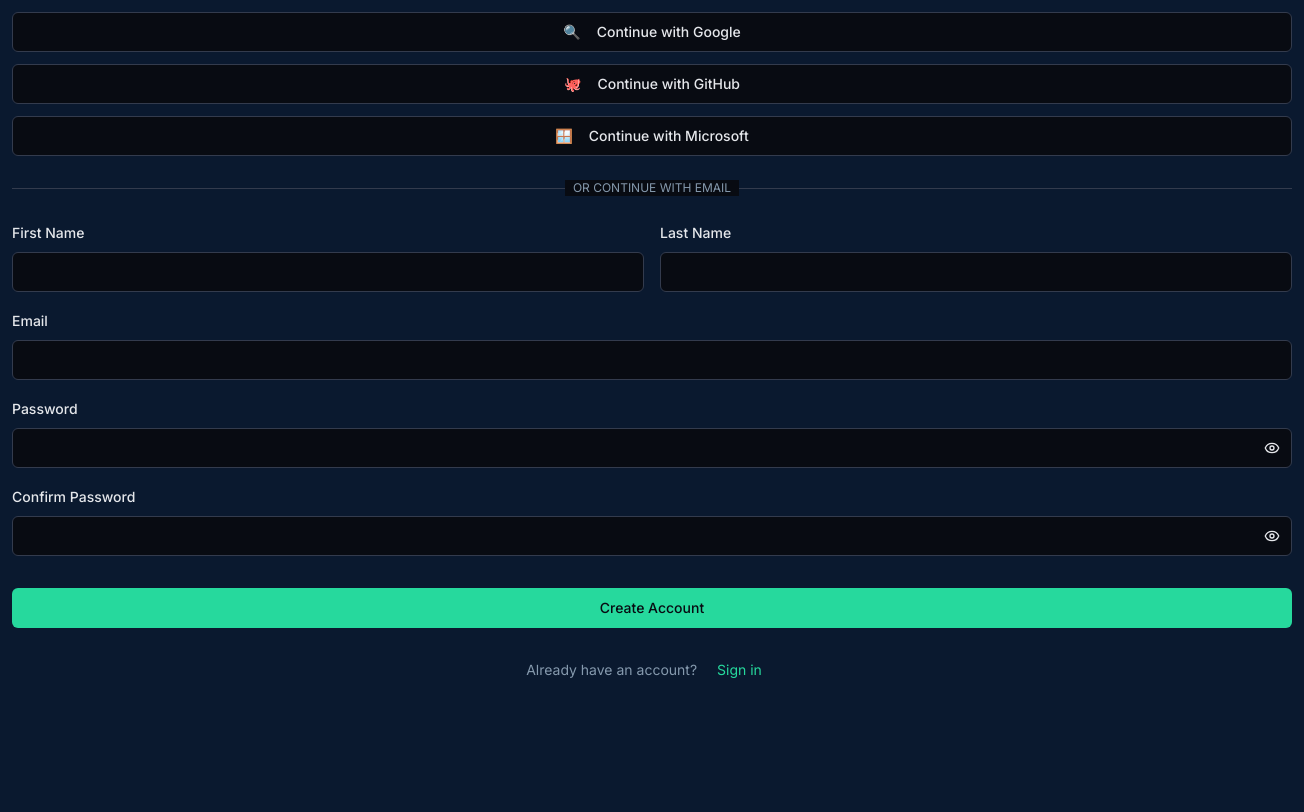
it: SignUpForm - Comprehensive Coverage › Form Validation › should validate required email
Click the field labelled "Email" at (652, 360), box [12, 340, 1292, 380]
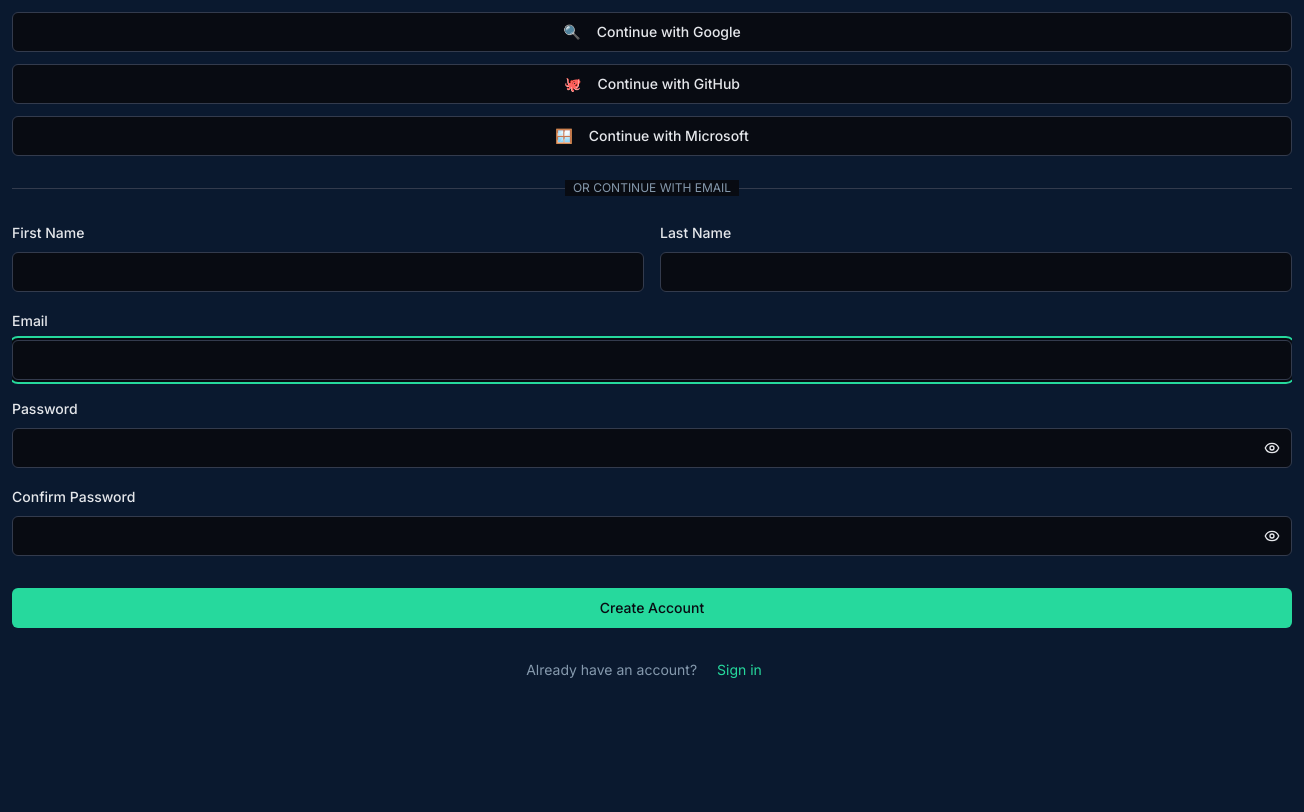
Press Tab
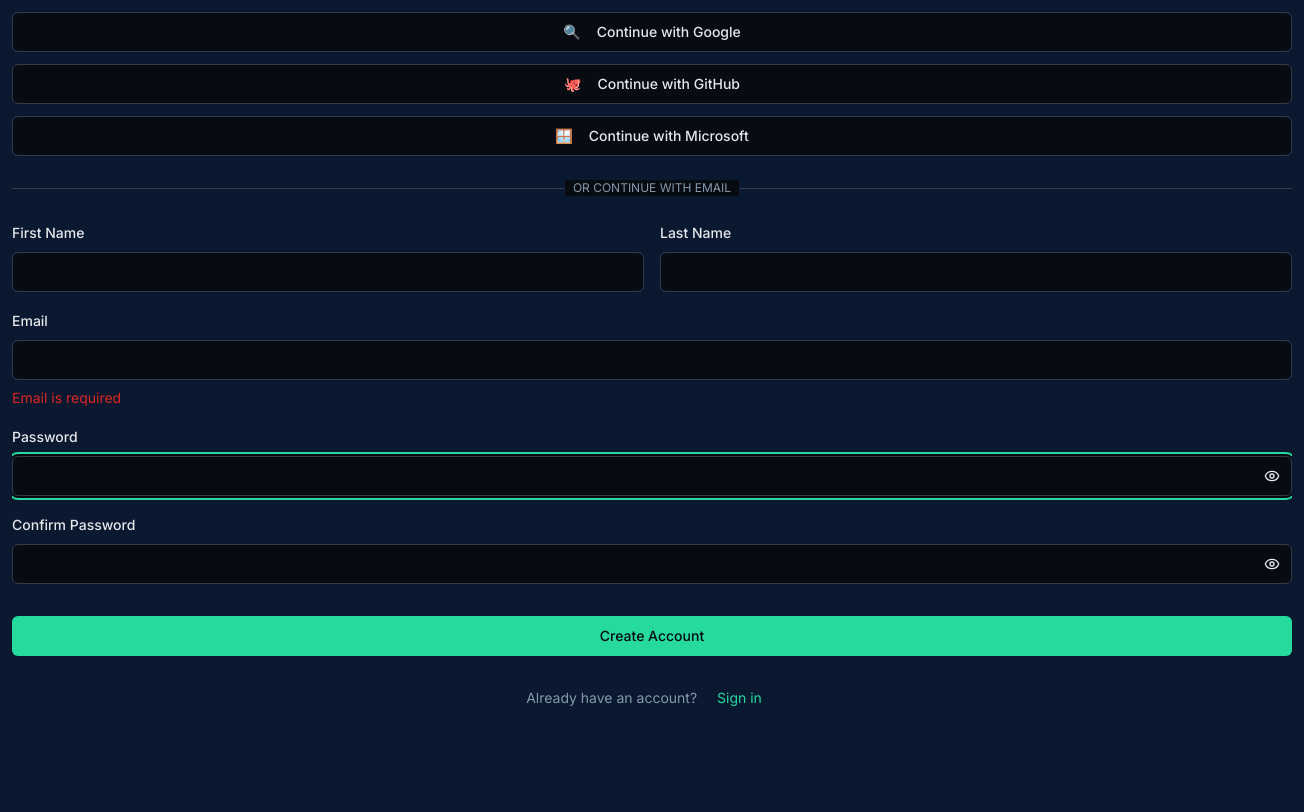
Check: the text "Email is required" is shown, box [12, 389, 121, 406]
